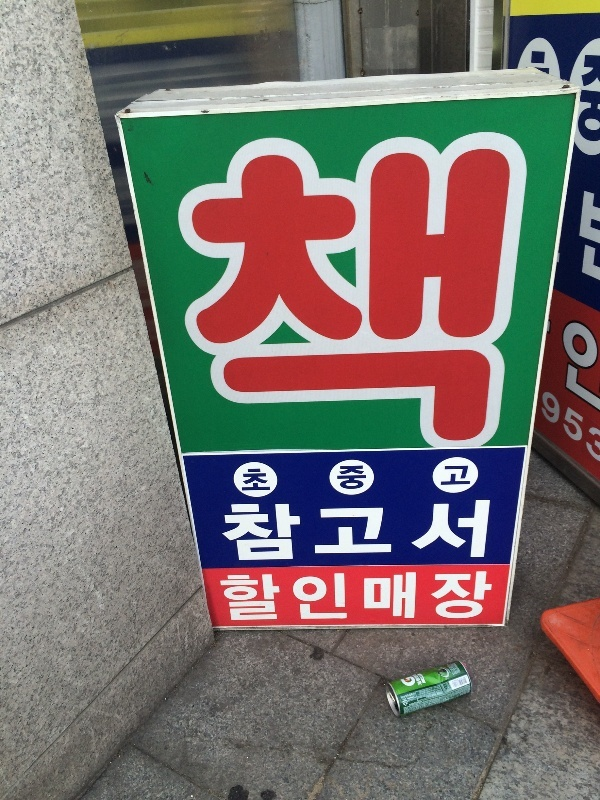text: (497, 147, 513, 442), (193, 147, 208, 442), (209, 147, 224, 442), (225, 147, 240, 442), (241, 147, 256, 442), (257, 147, 272, 442), (273, 147, 288, 442), (289, 147, 304, 442), (305, 147, 320, 442), (321, 147, 336, 442), (337, 147, 352, 442), (353, 147, 368, 442), (369, 147, 384, 442), (385, 147, 400, 442), (401, 147, 416, 442), (417, 147, 432, 442), (433, 147, 448, 442), (449, 147, 464, 442), (465, 147, 480, 442), (481, 147, 496, 442), (184, 147, 192, 442), (561, 318, 576, 415), (577, 318, 592, 415), (225, 500, 240, 565), (241, 500, 256, 565), (257, 500, 272, 565), (273, 500, 288, 565), (289, 500, 304, 565), (305, 500, 320, 565), (321, 500, 336, 565), (337, 500, 352, 565), (353, 500, 368, 565), (369, 500, 384, 565), (385, 500, 400, 565), (401, 500, 416, 565), (417, 500, 432, 565), (433, 500, 448, 565), (449, 500, 464, 565), (465, 500, 480, 565), (545, 387, 560, 448), (561, 387, 576, 448), (583, 188, 592, 284), (583, 54, 592, 144), (225, 570, 240, 622), (241, 570, 256, 622), (257, 570, 272, 622), (273, 570, 288, 622), (289, 570, 304, 622), (305, 570, 320, 622), (321, 570, 336, 622), (337, 570, 352, 622), (353, 570, 368, 622), (369, 570, 384, 622), (385, 570, 400, 622), (401, 570, 416, 622), (417, 570, 432, 622), (433, 570, 448, 622), (449, 570, 464, 622), (465, 570, 480, 622), (593, 318, 600, 415), (481, 570, 494, 622), (593, 188, 600, 284), (481, 500, 491, 565), (593, 54, 600, 144), (417, 684, 432, 718), (433, 684, 448, 718), (449, 684, 464, 718), (403, 684, 416, 718), (577, 387, 584, 448), (257, 467, 272, 493), (337, 465, 352, 490), (353, 465, 368, 490), (449, 465, 464, 486), (244, 467, 256, 493), (218, 570, 224, 622), (532, 50, 544, 76), (593, 427, 600, 466), (417, 686, 432, 701), (465, 684, 471, 718), (221, 500, 224, 565), (401, 692, 416, 705), (545, 50, 552, 76), (417, 674, 432, 686), (449, 662, 461, 677), (550, 317, 560, 335), (588, 427, 592, 466), (433, 686, 443, 701), (465, 465, 470, 486), (440, 682, 448, 694), (452, 675, 464, 683), (421, 674, 432, 681), (445, 465, 448, 486), (444, 662, 448, 677), (449, 682, 451, 694), (465, 675, 467, 683), (559, 251, 560, 266)
